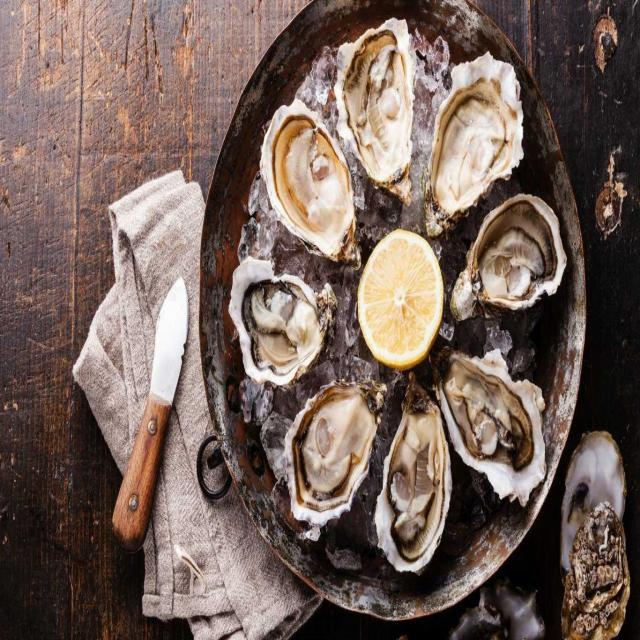Oyster-Open: (427, 352, 542, 500), (428, 56, 524, 229), (258, 103, 357, 266), (339, 21, 431, 191), (563, 433, 631, 640), (452, 196, 563, 322), (286, 385, 378, 532), (226, 262, 333, 388), (375, 410, 451, 576)
